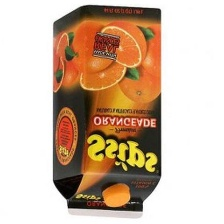carton: (49, 0, 173, 221)
